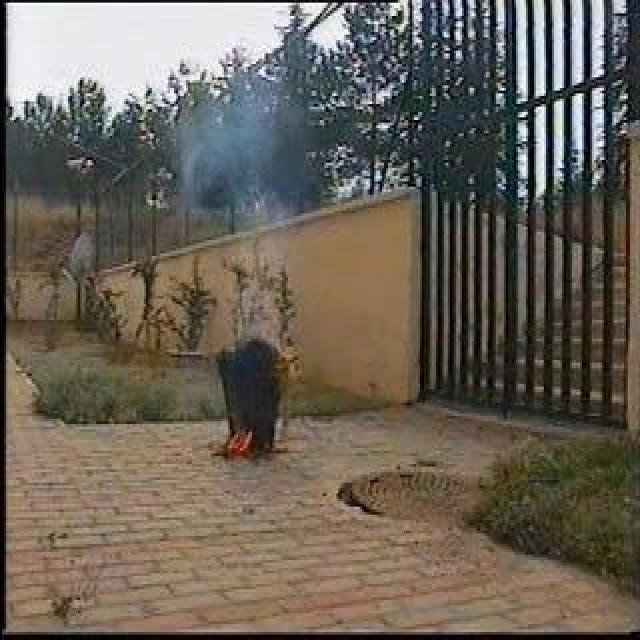smoke: (186, 94, 304, 205)
